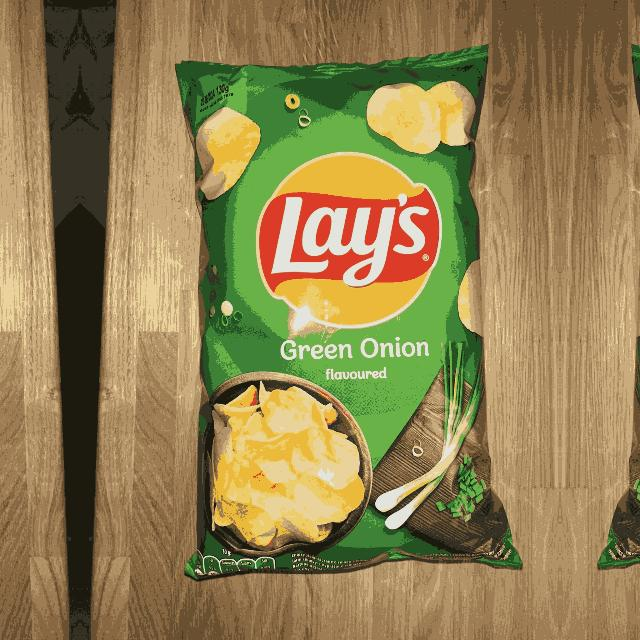lays: (256, 152, 444, 331)
